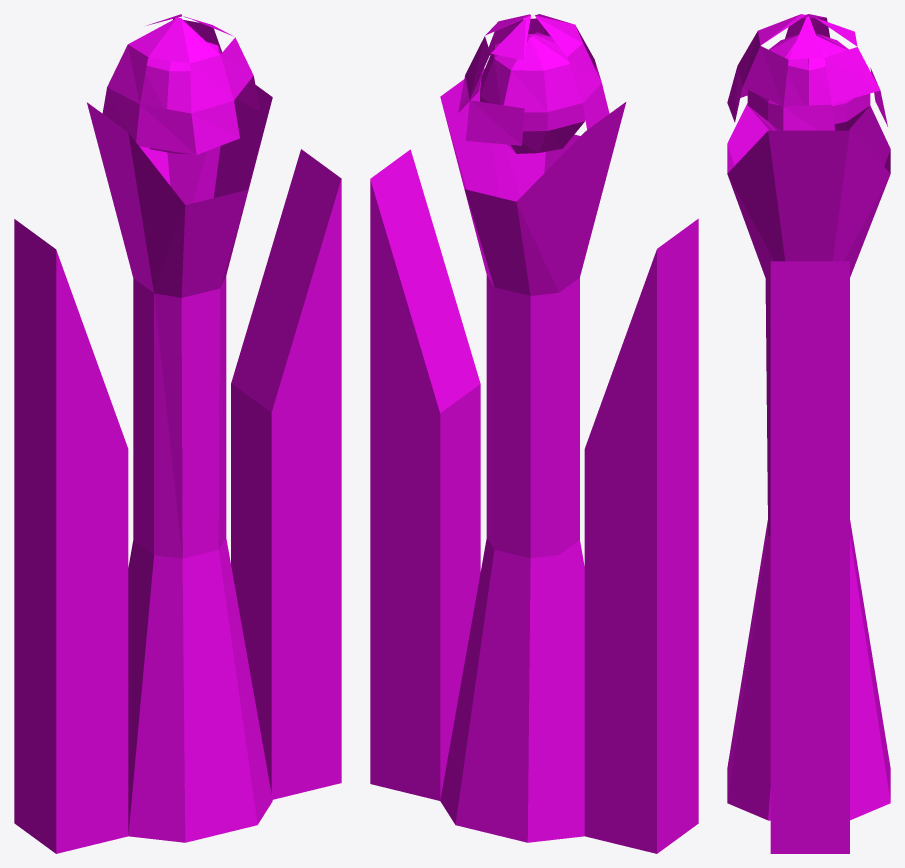
The model's file is magearena colomn.obj.
3 views of the same model, side by side, from view 1: azimuth 30°, elevation 25°; view 2: azimuth 150°, elevation 25°; view 3: azimuth 270°, elevation 25° (orthographic). The views are drawn at different scales.
Visible parts, largest first — view 1: magearena colomn_back; view 2: magearena colomn_back; view 3: magearena colomn_back.
Part boxes in pixels (<box>): magearena colomn_back: <box>14,14,341,853</box>; magearena colomn_back: <box>370,14,698,853</box>; magearena colomn_back: <box>727,14,890,853</box>.
Size of the model in its own units: 1.27 by 3.33 by 0.64.
